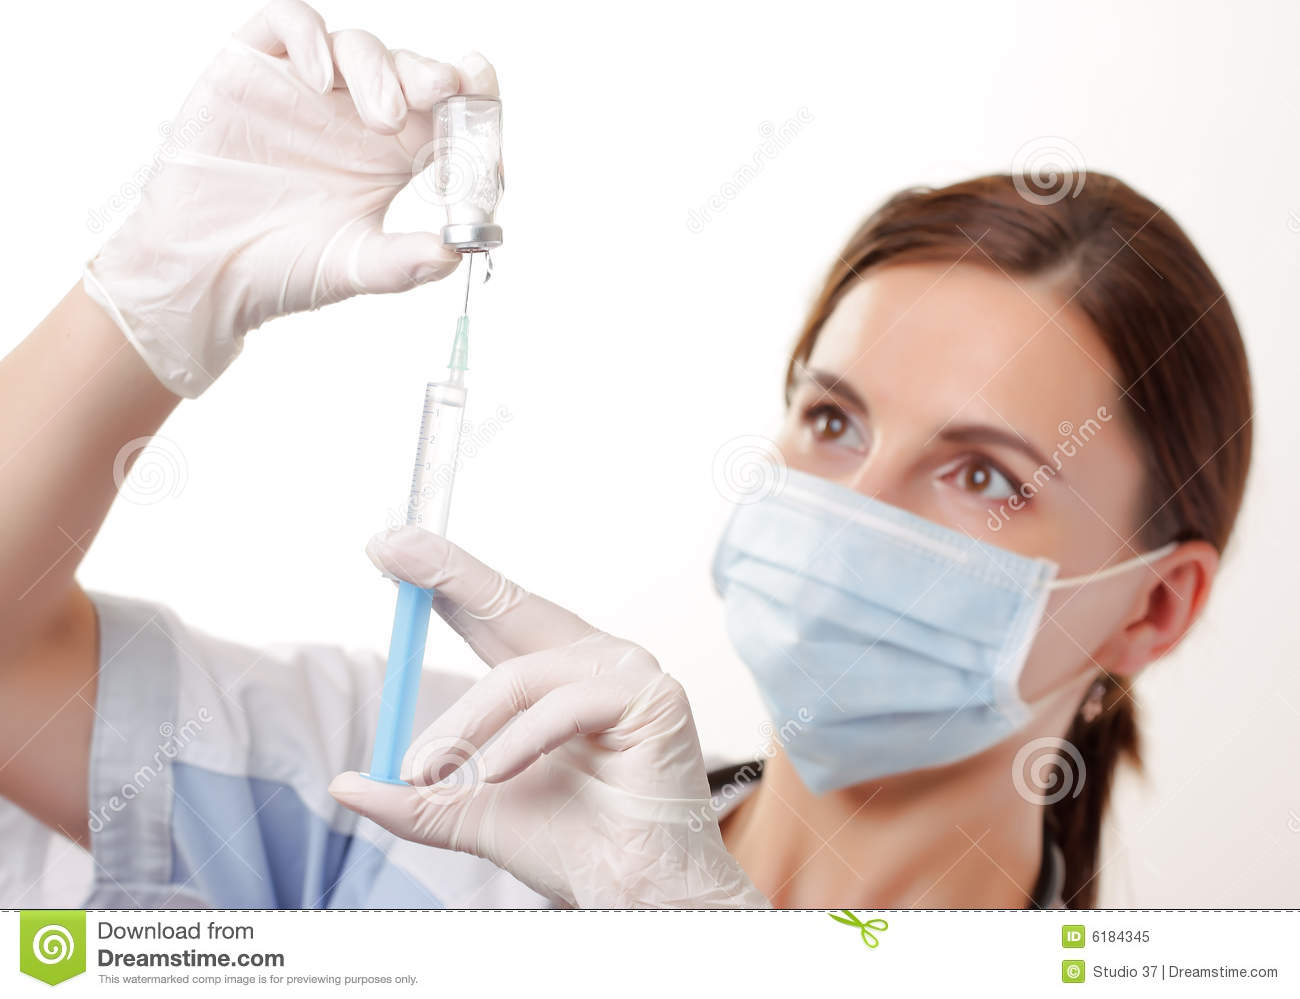mask: (713, 462, 1053, 794)
